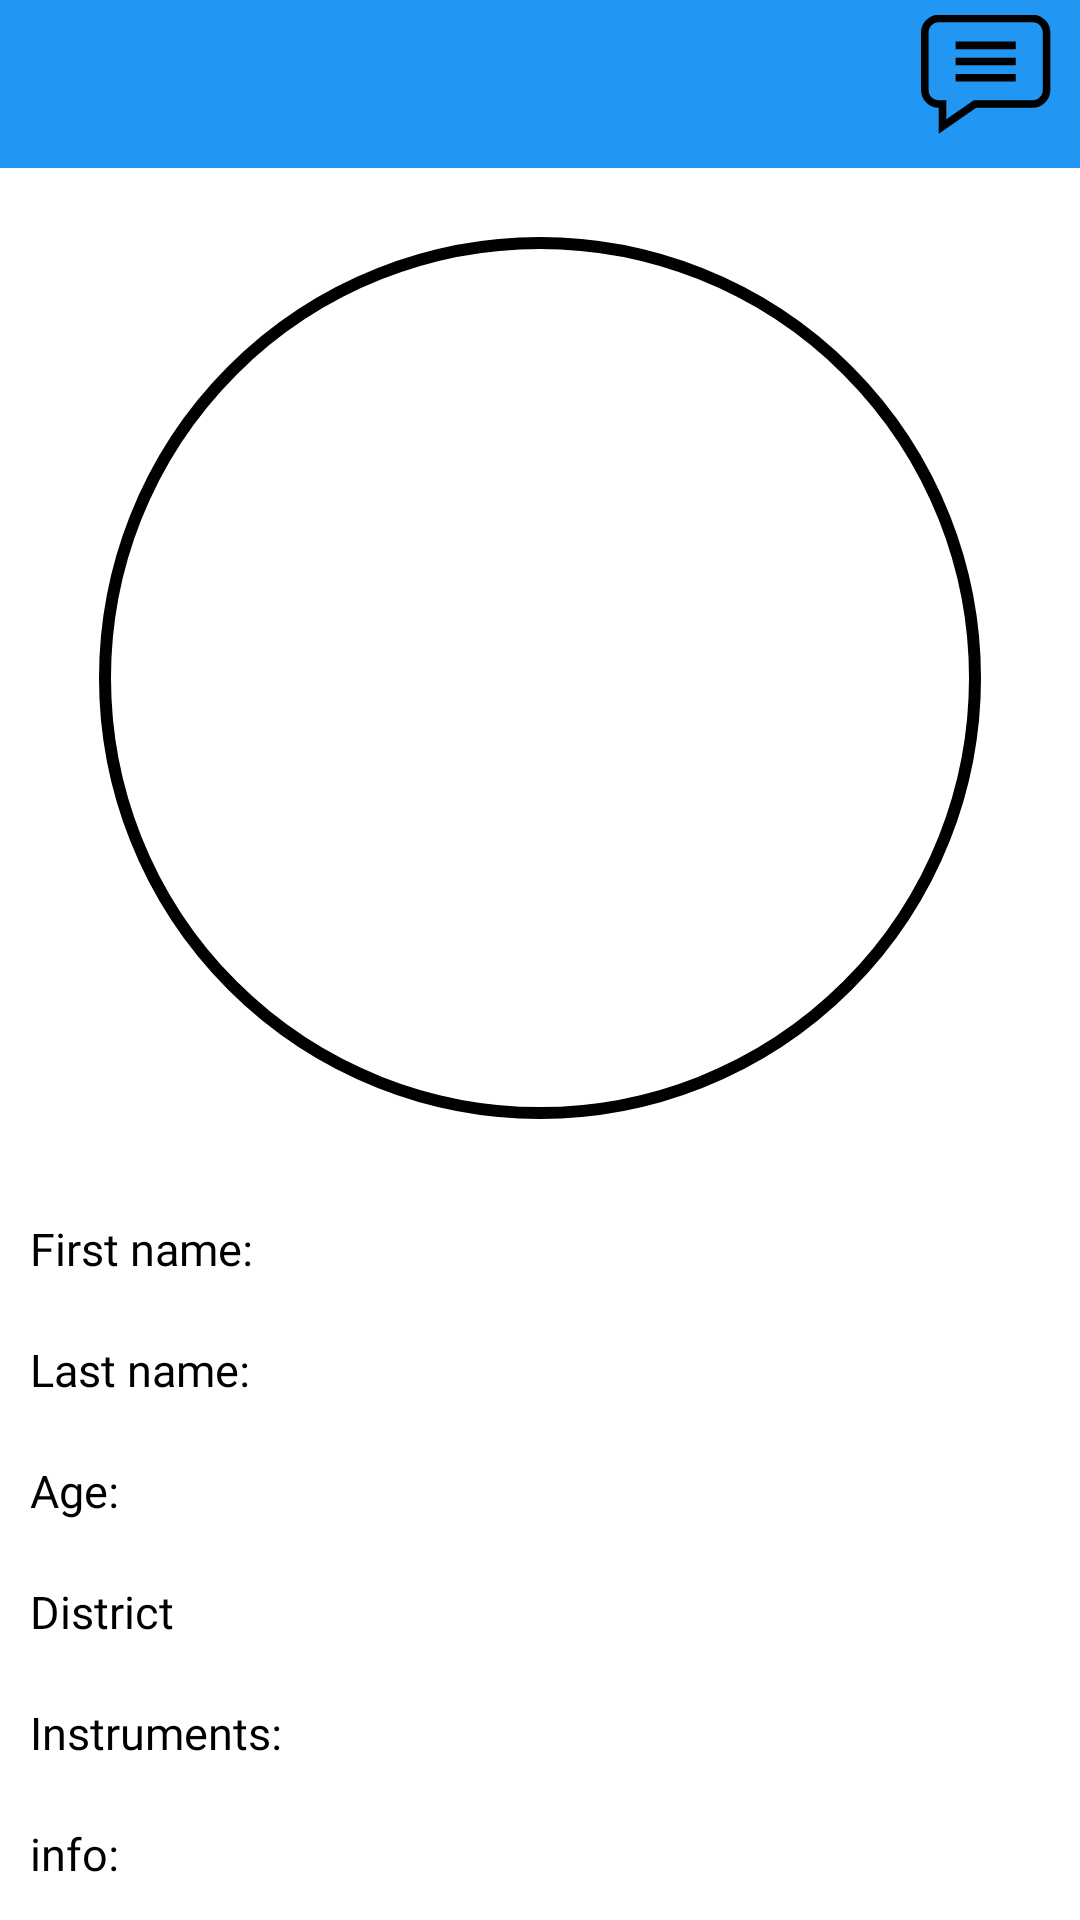

Where icons sit on this 1080px x 1920px app screen, as (x1, y1, x2, y2):
message: (921, 15, 1051, 134)
